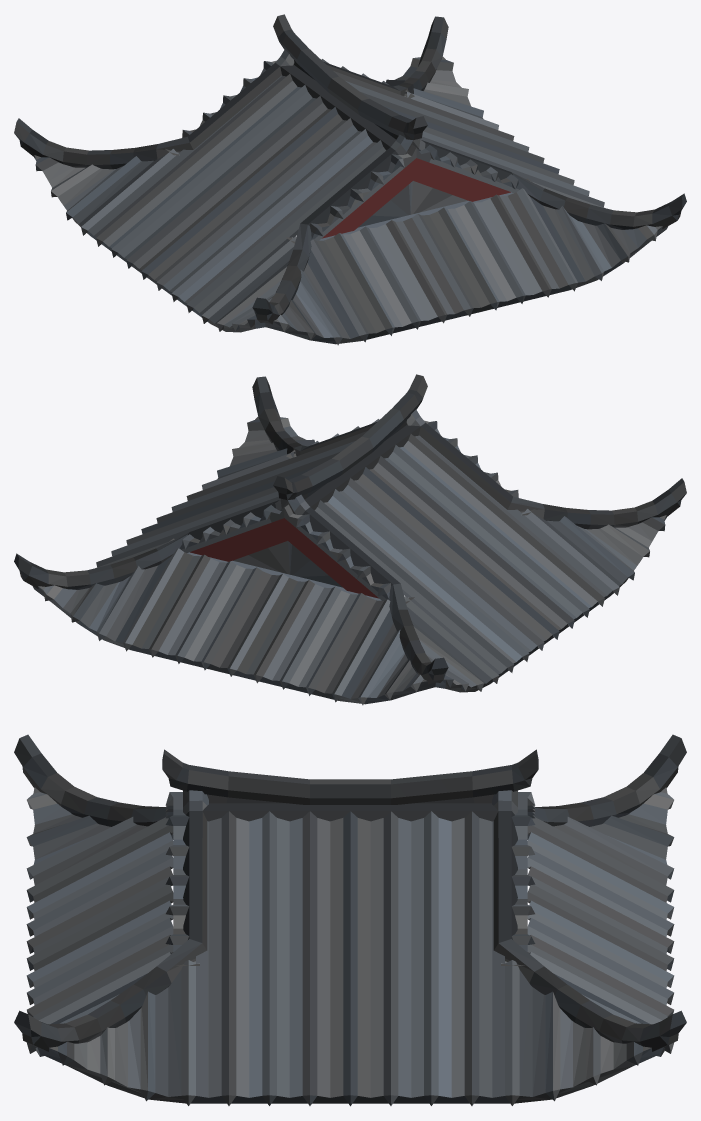
File: StackA-Roof.fbx
3 views of the same model, one above another, from view 1: azimuth 30°, elevation 25°; view 2: azimuth 150°, elevation 25°; view 3: azimuth 270°, elevation 25° (orthographic). The views are drawn at different scales.
Visible parts, largest first — view 1: StackA-Roof; view 2: StackA-Roof; view 3: StackA-Roof.
Part boxes in pixels (x1=…): StackA-Roof: x1=14, y1=14, x2=686, y2=345; StackA-Roof: x1=14, y1=374, x2=686, y2=705; StackA-Roof: x1=14, y1=734, x2=686, y2=1106.
Bounding box in the file's own units: 1039 × 376 × 1039.
